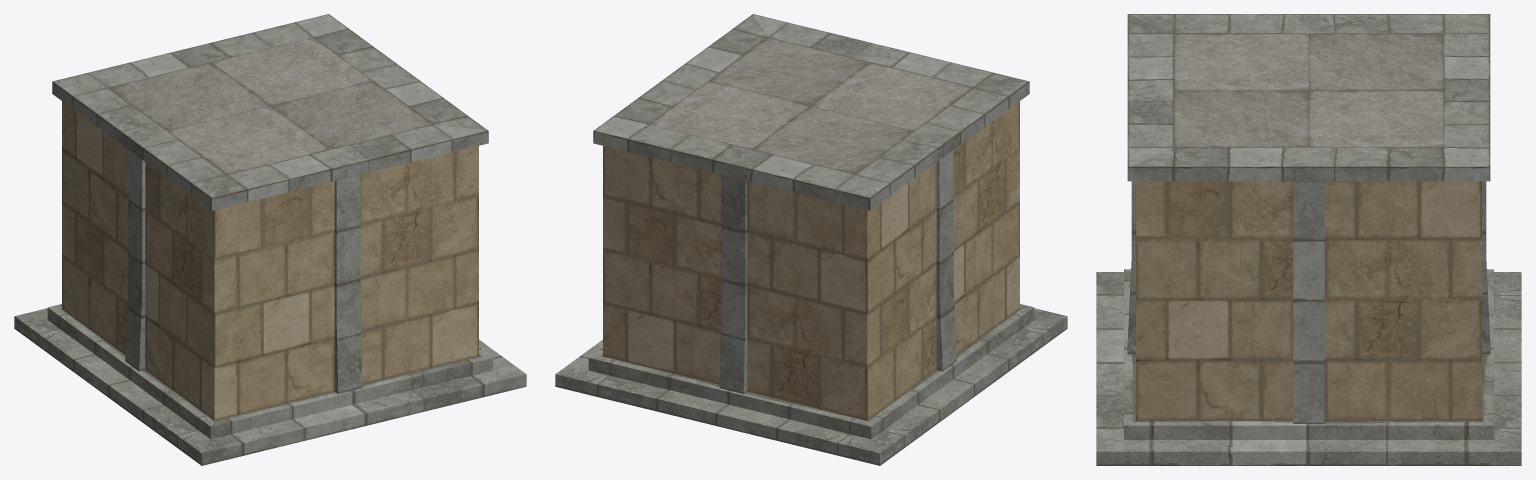
The model's file is block_4x4.fbx.
3 views of the same model, side by side, from view 1: azimuth 30°, elevation 25°; view 2: azimuth 150°, elevation 25°; view 3: azimuth 270°, elevation 25° (orthographic). The views are drawn at different scales.
Parts seen in each view (by area): view 1: block_4x4; view 2: block_4x4; view 3: block_4x4.
Boxes of the visible parts, x1,y1,x2,y2 form: block_4x4: [14, 14, 526, 465]; block_4x4: [555, 14, 1067, 465]; block_4x4: [1096, 14, 1521, 465].
Bounding box in the file's own units: 270 × 200 × 270.
